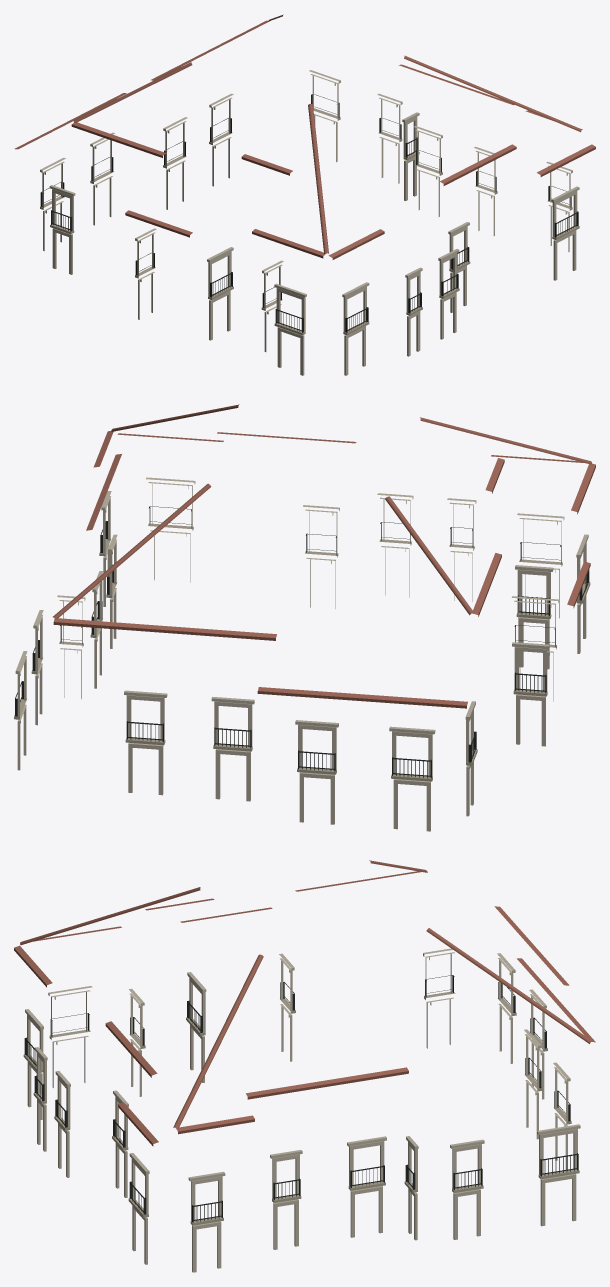
3 views of the same model, one above another, from view 1: azimuth 30°, elevation 25°; view 2: azimuth 150°, elevation 25°; view 3: azimuth 270°, elevation 25° (orthographic). The views are drawn at different scales.
Parts seen in each view (by area): view 1: detail; view 2: detail; view 3: detail.
Part boxes in pixels (x1,y1,x2,y2): detail: [14, 14, 595, 375]; detail: [14, 404, 595, 831]; detail: [14, 860, 595, 1272].
Size of the model in its own units: 29.89 by 13.74 by 30.05.
